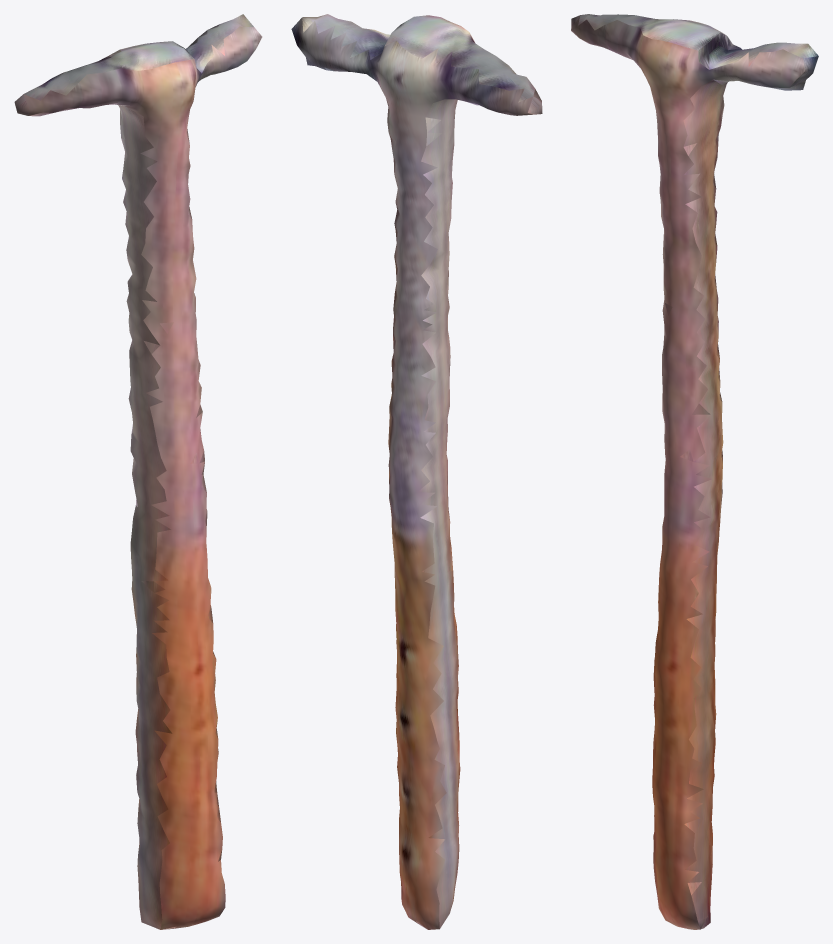
The model's file is hammer1.glb.
The picture shows the model from 3 angles, left to right: view 1: azimuth 30°, elevation 25°; view 2: azimuth 150°, elevation 25°; view 3: azimuth 330°, elevation 25°; orthographic projection. The views are drawn at different scales.
Visible parts, largest first — view 1: geometry_0.007; view 2: geometry_0.007; view 3: geometry_0.007.
Boxes of the visible parts, box(x1,y1,x2,y2) form: geometry_0.007: box(14, 14, 262, 929); geometry_0.007: box(291, 14, 542, 929); geometry_0.007: box(571, 14, 818, 929).
Bounding box in the file's own units: 0.1311 × 0.4599 × 0.0542.
1 material, 1 textured.
